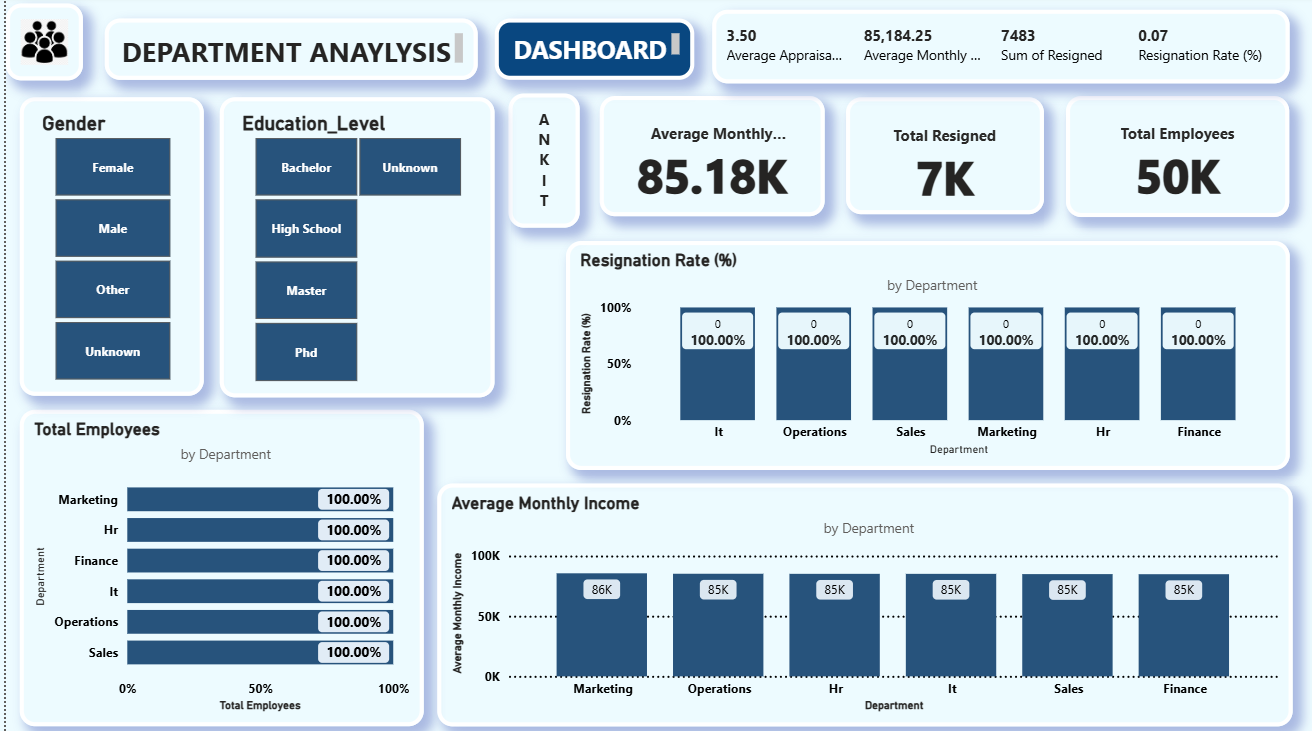

Layout of this report page (visuals, bound fields, positions):
{"tool":"powerbi","page":{"name":"DEPARTMENT ANAYLYSIS","canvas":[1280,720],"ordinal":1},"visuals":[{"type":"textbox","box":[96.9,21.8,364.4,60.1],"z":0},{"type":"textbox","box":[477.7,21.8,195.2,60.1],"z":1000},{"type":"cardVisual","fields":{"Data":["ROW.Total Resigned"]},"box":[821.7,99.6,193.8,114.7],"z":2000},{"type":"cardVisual","fields":{"Data":["ROW.Average Monthly Income"]},"box":[581.4,98.3,219.7,117.4],"z":3000},{"type":"cardVisual","fields":{"Data":["ROW.Total Employees"]},"box":[1037.3,98.3,218.4,118.7],"z":4000},{"type":"hundredPercentStackedBarChart","fields":{"Y":["ROW.Total Employees"],"Category":["ROW.Department"]},"box":[13.5,404.8,395,309.4],"z":5000},{"type":"slicer","fields":{"Values":["ROW.Gender"]},"box":[13.6,99.6,180.2,292.1],"z":6000},{"type":"multiRowCard","fields":{"Values":["ROW.Average Appraisal Score","ROW.Average Monthly Income","ROW.Resigned","ROW.Resignation Rate (%)"]},"box":[690.6,13.6,565.1,72.3],"z":7000},{"type":"textbox","box":[491.4,95.5,69.6,131],"z":8000},{"type":"image","box":[0,6.8,75.1,75.1],"z":9000},{"type":"slicer","fields":{"Values":["ROW.Education_Level"]},"box":[208.8,99.6,268.9,293.5],"z":10000},{"type":"hundredPercentStackedColumnChart","fields":{"Y":["ROW.Resignation Rate (%)"],"Category":["ROW.Department"]},"box":[547.3,240.2,708.4,223.8],"z":11000},{"type":"columnChart","fields":{"Y":["ROW.Average Monthly Income"],"Category":["ROW.Department"]},"box":[421.9,476.9,836.4,237.2],"z":12000}]}

Visuals, with their boxes in screenshot pixels (x1, y1, x2, y2), scaled from the page's 1280x720 canvas onto the 1312x731 screenshot:
textbox: (left=99, top=22, right=473, bottom=83)
textbox: (left=490, top=22, right=690, bottom=83)
cardVisual - ROW.Total Resigned: (left=842, top=101, right=1041, bottom=218)
cardVisual - ROW.Average Monthly Income: (left=596, top=100, right=821, bottom=219)
cardVisual - ROW.Total Employees: (left=1063, top=100, right=1287, bottom=220)
hundredPercentStackedBarChart - ROW.Total Employees x ROW.Department: (left=14, top=411, right=419, bottom=725)
slicer - ROW.Gender: (left=14, top=101, right=199, bottom=398)
multiRowCard - ROW.Average Appraisal Score x ROW.Average Monthly Income: (left=708, top=14, right=1287, bottom=87)
textbox: (left=504, top=97, right=575, bottom=230)
image: (left=0, top=7, right=77, bottom=83)
slicer - ROW.Education_Level: (left=214, top=101, right=490, bottom=399)
hundredPercentStackedColumnChart - ROW.Resignation Rate (%) x ROW.Department: (left=561, top=244, right=1287, bottom=471)
columnChart - ROW.Average Monthly Income x ROW.Department: (left=432, top=484, right=1290, bottom=725)
